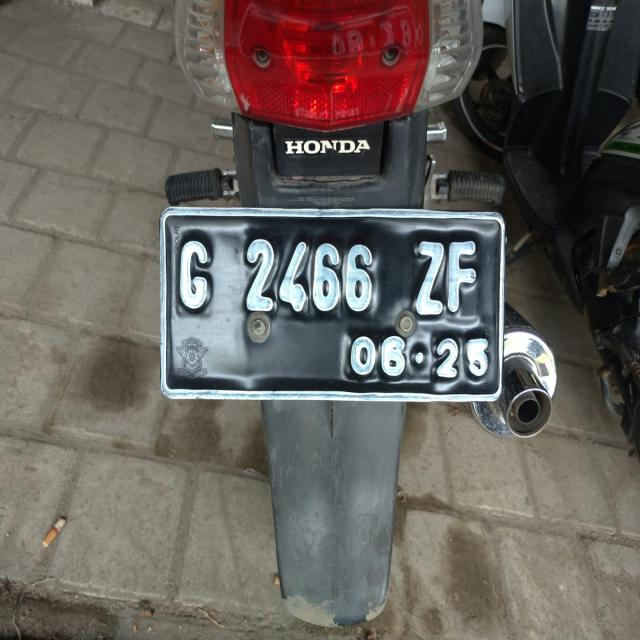plate: (163, 207, 503, 397)
